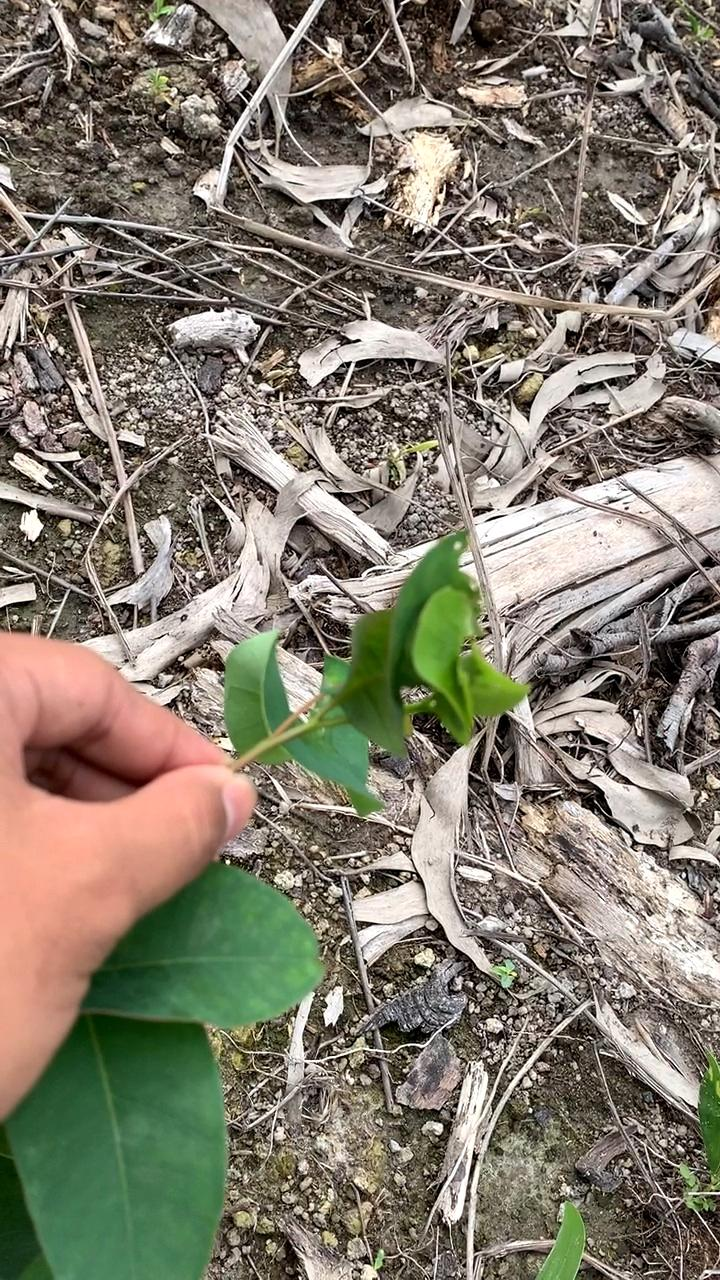Leaf Roller - Leaf: (303, 526, 546, 808)
